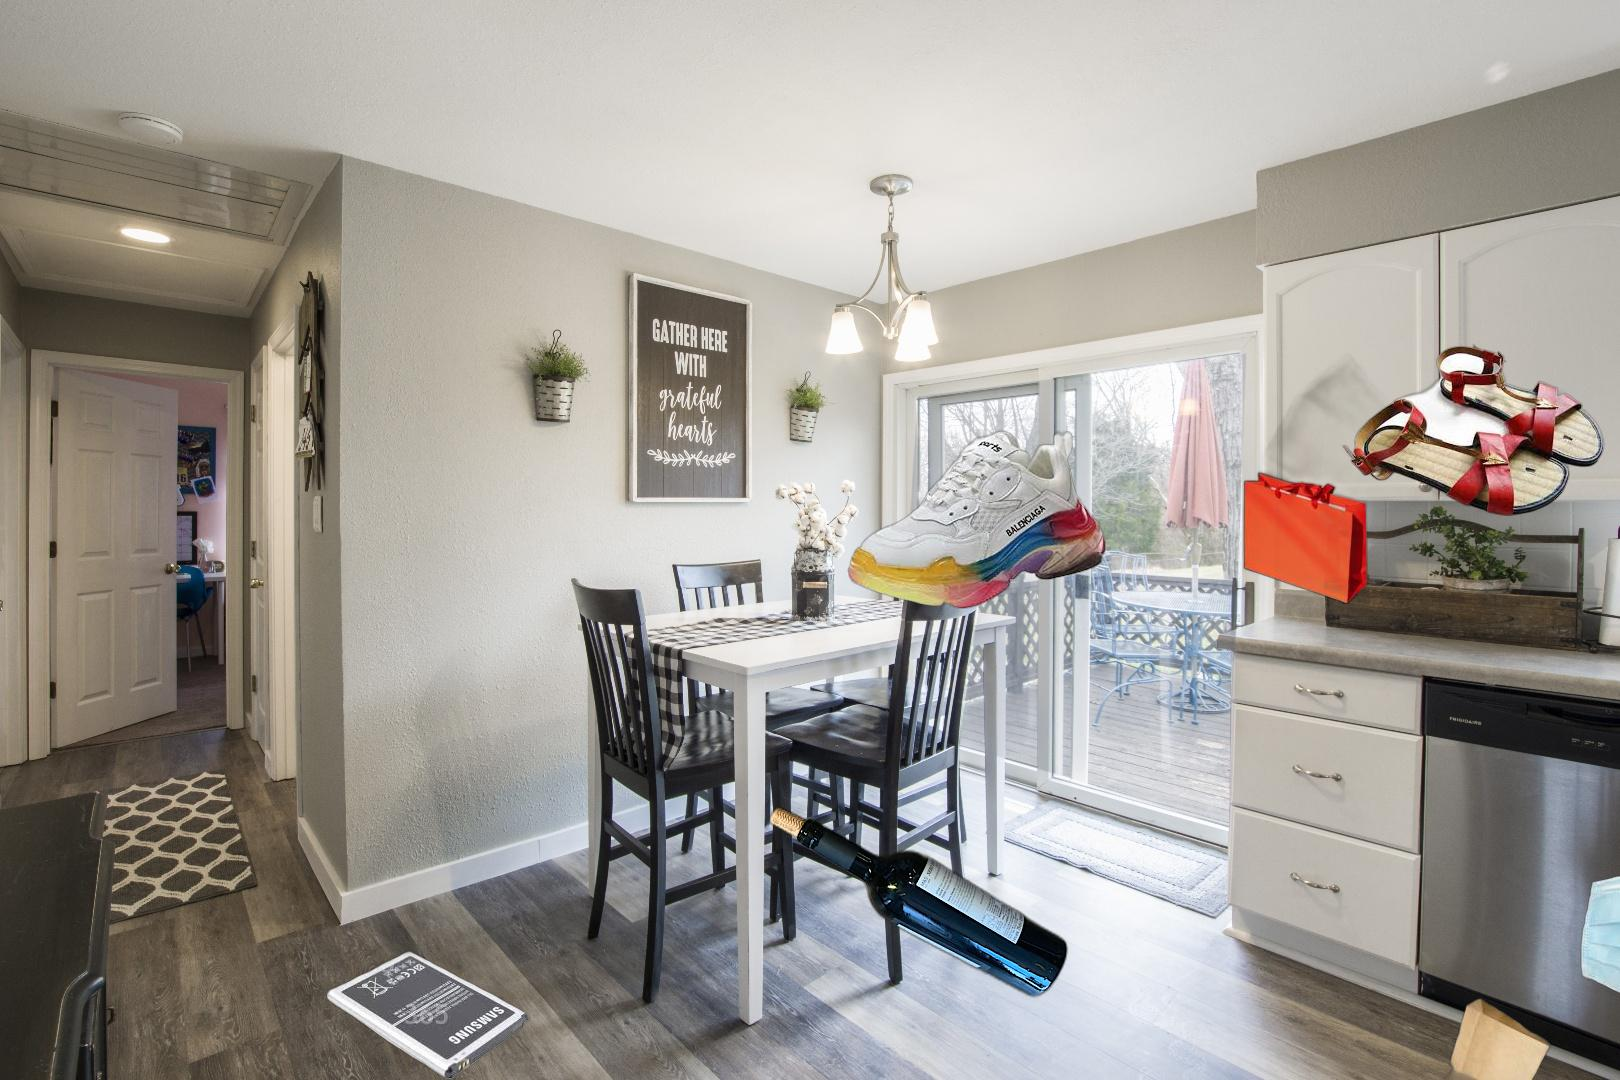battery: (323, 949, 533, 1080)
glass: (765, 802, 1072, 1002)
paper-bag: (1242, 350, 1507, 628), (1369, 994, 1578, 1080)
plastic-bottles: (1360, 914, 1620, 1080)
shoes: (846, 429, 1109, 615), (1338, 342, 1606, 520)
trash: (1565, 871, 1620, 1006)
